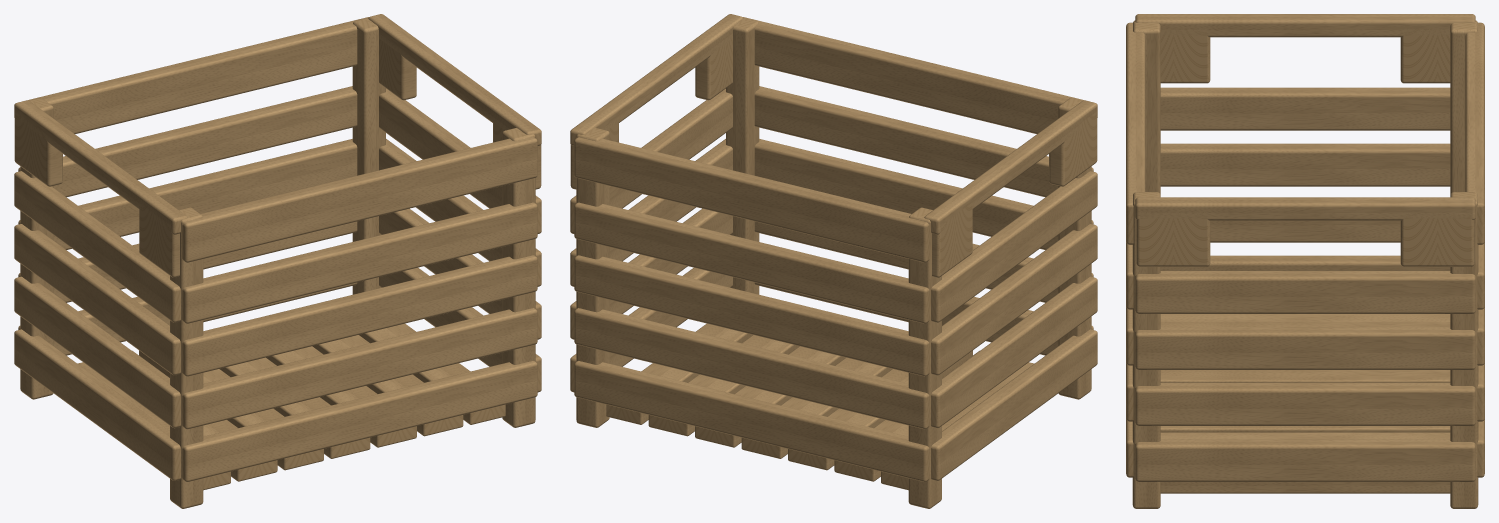
3 renders of one model, left to right at view 1: azimuth 30°, elevation 25°; view 2: azimuth 150°, elevation 25°; view 3: azimuth 270°, elevation 25°, orthographic. The views are drawn at different scales.
Parts seen in each view (by area): view 1: Crate top long rail, Crate long side slat, Crate long side slat.002, Crate long side slat.004, Crate long side slat.006, Crate top long rail.001, Crate long side slat.007, Crate long side slat.005, Crate end slat, Crate end slat.002, Crate end slat.004, Crate end slat.006 (+22 smaller); view 2: Crate top long rail.001, Crate long side slat.001, Crate long side slat.003, Crate long side slat.005, Crate long side slat.007, Crate top long rail, Crate long side slat.006, Crate long side slat.004, Crate end slat, Crate end slat.002, Crate end slat.004, Crate end slat.006 (+22 smaller); view 3: Crate end slat.001, Crate end slat.003, Crate end slat.005, Crate end slat.007, Crate end slat.004, Crate end slat.006, Crate hand-opening top rail.001, Crate hand-opening top rail, Crate end slat.002, Hand-opening end shoulder.002, Hand-opening end shoulder.003, Crate bottom plank (+21 smaller).
Part boxes in pixels (<box>): Crate top long rail: <box>182,137,537,262</box>; Crate long side slat: <box>182,361,537,481</box>; Crate long side slat.002: <box>182,308,537,429</box>; Crate long side slat.004: <box>182,255,537,376</box>; Crate long side slat.006: <box>182,202,537,323</box>; Crate top long rail.001: <box>28,17,368,133</box>; Crate long side slat.007: <box>18,86,357,197</box>; Crate long side slat.005: <box>18,139,357,249</box>; Crate end slat: <box>14,329,180,480</box>; Crate end slat.002: <box>14,276,180,428</box>; Crate end slat.004: <box>14,224,180,375</box>; Crate end slat.006: <box>14,171,180,322</box>; Crate top long rail.001: <box>574,137,929,262</box>; Crate long side slat.001: <box>574,361,929,481</box>; Crate long side slat.003: <box>574,308,929,429</box>; Crate long side slat.005: <box>574,255,929,376</box>; Crate long side slat.007: <box>574,202,929,323</box>; Crate top long rail: <box>743,17,1083,133</box>; Crate long side slat.006: <box>754,86,1093,197</box>; Crate long side slat.004: <box>754,139,1093,249</box>; Crate end slat: <box>931,329,1097,480</box>; Crate end slat.002: <box>931,276,1097,428</box>; Crate end slat.004: <box>931,224,1097,375</box>; Crate end slat.006: <box>931,171,1097,322</box>; Crate end slat.001: <box>1135,439,1475,481</box>; Crate end slat.003: <box>1135,383,1475,425</box>; Crate end slat.005: <box>1135,327,1475,369</box>; Crate end slat.007: <box>1135,271,1475,313</box>; Crate end slat.004: <box>1160,143,1450,186</box>; Crate end slat.006: <box>1160,87,1450,130</box>; Crate hand-opening top rail.001: <box>1135,197,1475,220</box>; Crate hand-opening top rail: <box>1135,14,1475,37</box>; Crate end slat.002: <box>1210,220,1400,242</box>; Hand-opening end shoulder.002: <box>1136,212,1210,266</box>; Hand-opening end shoulder.003: <box>1400,212,1474,266</box>; Crate bottom plank: <box>1160,314,1450,326</box>.
Bounding box in the file's own units: 0.374 × 0.282 × 0.296.
2 materials, 2 textured.
